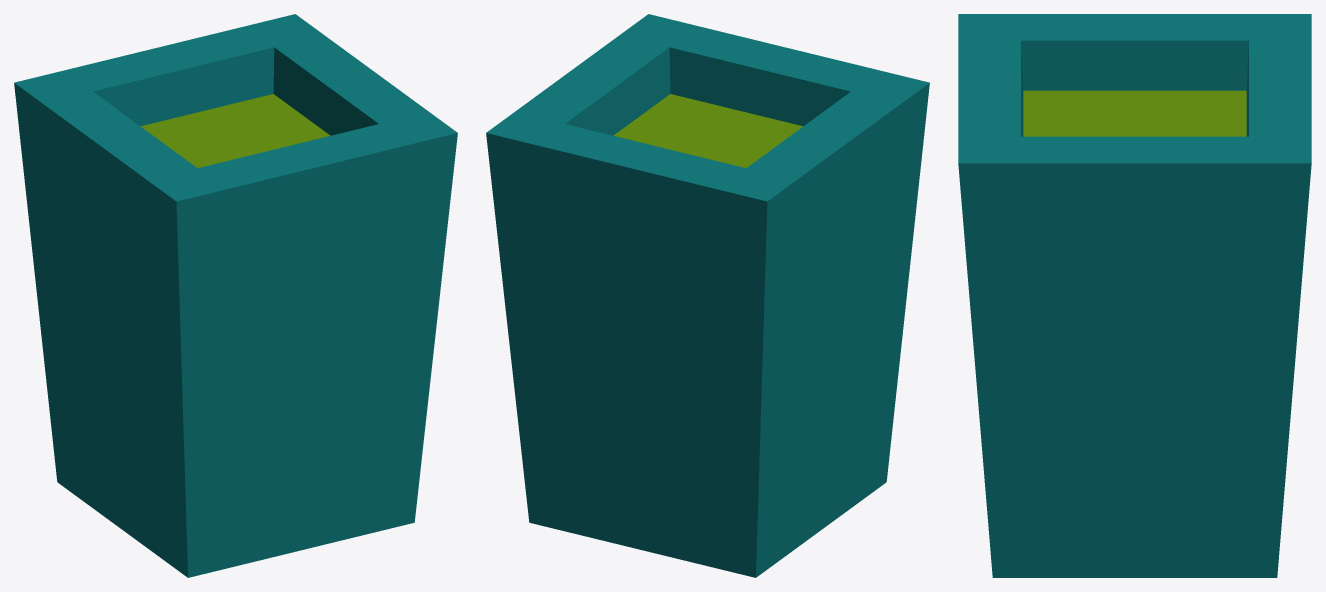
Rendered from JUGOLIMON_PRP.fbx.
The picture shows the model from 3 angles, left to right: view 1: azimuth 30°, elevation 25°; view 2: azimuth 150°, elevation 25°; view 3: azimuth 270°, elevation 25°; orthographic projection. The views are drawn at different scales.
Visible parts, largest first — view 1: JUGOLIMON_PRP; view 2: JUGOLIMON_PRP; view 3: JUGOLIMON_PRP.
Part boxes in pixels (x1,y1,x2,y2): JUGOLIMON_PRP: (14, 14, 457, 577); JUGOLIMON_PRP: (486, 14, 929, 577); JUGOLIMON_PRP: (958, 14, 1311, 577).
Size of the model in its own units: 6.37 by 8.54 by 6.37.
